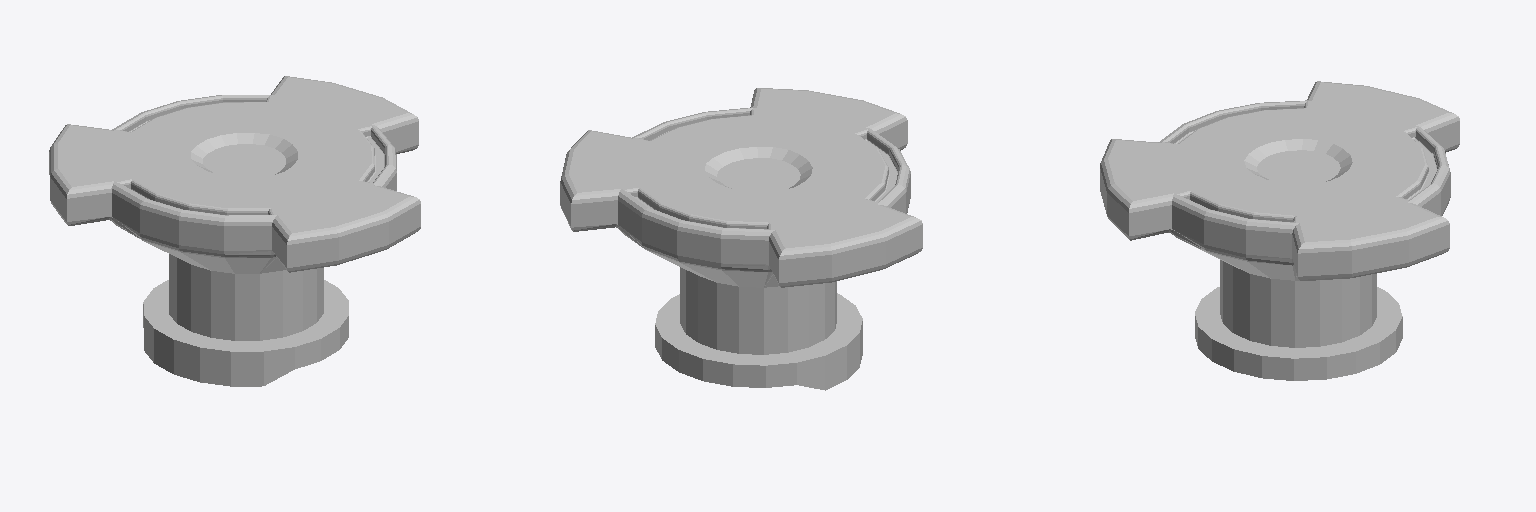
The model's file is button_execute.obj.
The picture shows the model from 3 angles: view 1: azimuth 30°, elevation 25°; view 2: azimuth 150°, elevation 25°; view 3: azimuth 270°, elevation 25°; orthographic projection.
Visible parts, largest first — view 1: button_execute; view 2: button_execute; view 3: button_execute.
Boxes of the visible parts, <box> form: button_execute: <box>49,76,420,386</box>; button_execute: <box>560,88,922,390</box>; button_execute: <box>1100,81,1459,380</box>.
Bounding box in the file's own units: 0.2603 × 0.1355 × 0.236.